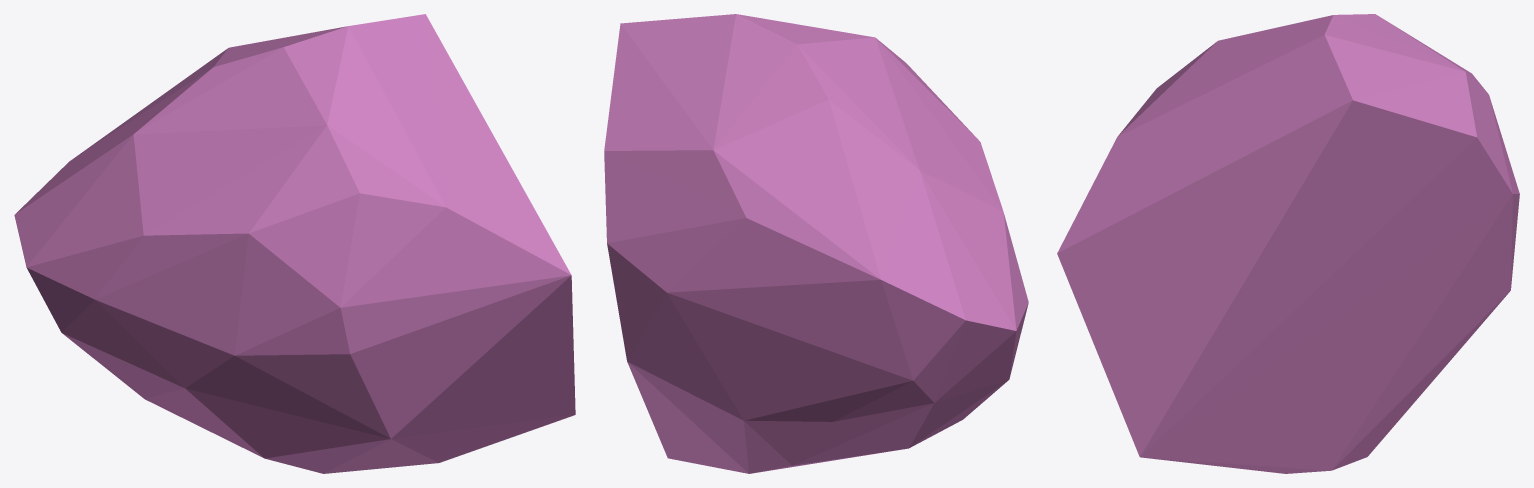
The model's file is food_produce_strawberry_a01.glb.
The picture shows the model from 3 angles, left to right: view 1: azimuth 30°, elevation 25°; view 2: azimuth 150°, elevation 25°; view 3: azimuth 270°, elevation 25°; orthographic projection. The views are drawn at different scales.
Parts seen in each view (by area): view 1: geometry_0; view 2: geometry_0; view 3: geometry_0.
Part boxes in pixels (bbox=[...]): geometry_0: bbox=[14, 14, 575, 473]; geometry_0: bbox=[604, 14, 1028, 473]; geometry_0: bbox=[1057, 14, 1519, 473].
Size of the model in its own units: 0.3772 by 0.3512 by 0.3546.
